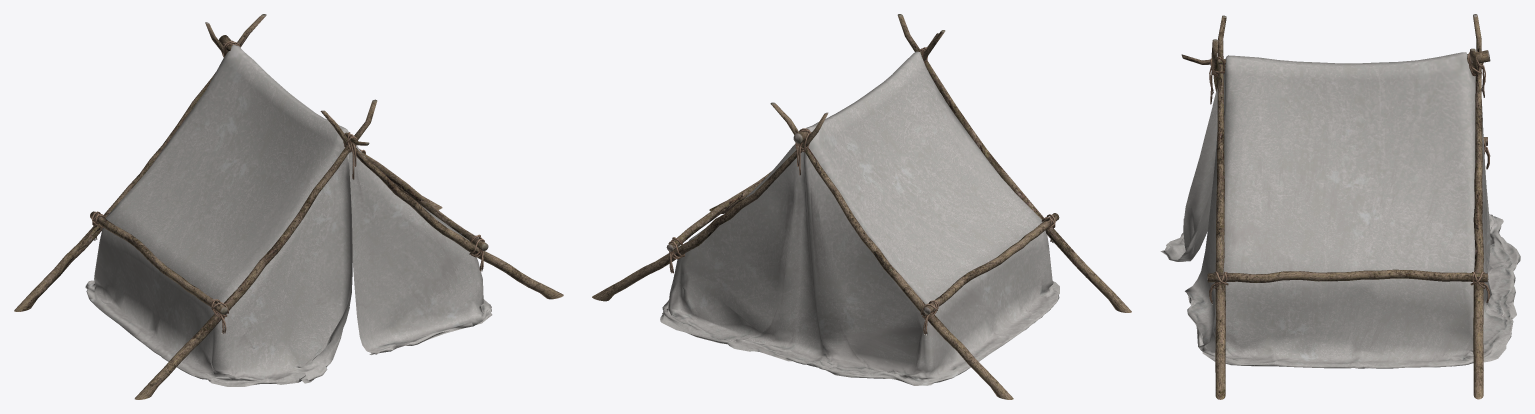
Rendered from Tent.fbx.
The picture shows the model from 3 angles, left to right: view 1: azimuth 30°, elevation 25°; view 2: azimuth 150°, elevation 25°; view 3: azimuth 270°, elevation 25°; orthographic projection. The views are drawn at different scales.
Parts seen in each view (by area): view 1: Tent, Sticks, Ropes; view 2: Tent, Sticks, Ropes; view 3: Tent, Sticks, Ropes.
Part boxes in pixels (box(x1,y1,x2,y2)): Tent: box(85, 44, 492, 386); Sticks: box(14, 14, 563, 399); Ropes: box(91, 40, 484, 334); Tent: box(660, 51, 1059, 385); Sticks: box(592, 14, 1131, 399); Ropes: box(668, 47, 1055, 335); Tent: box(1160, 52, 1520, 368); Sticks: box(1181, 14, 1490, 399); Ropes: box(1209, 51, 1490, 304).
Size of the model in its own units: 418 by 227 by 284.
3 materials, 3 textured.
